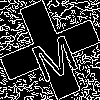M: (25, 25, 81, 84)
